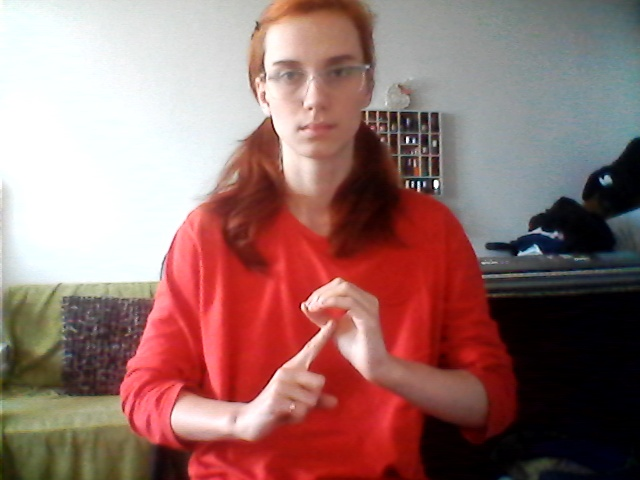q: (235, 273, 414, 446)
